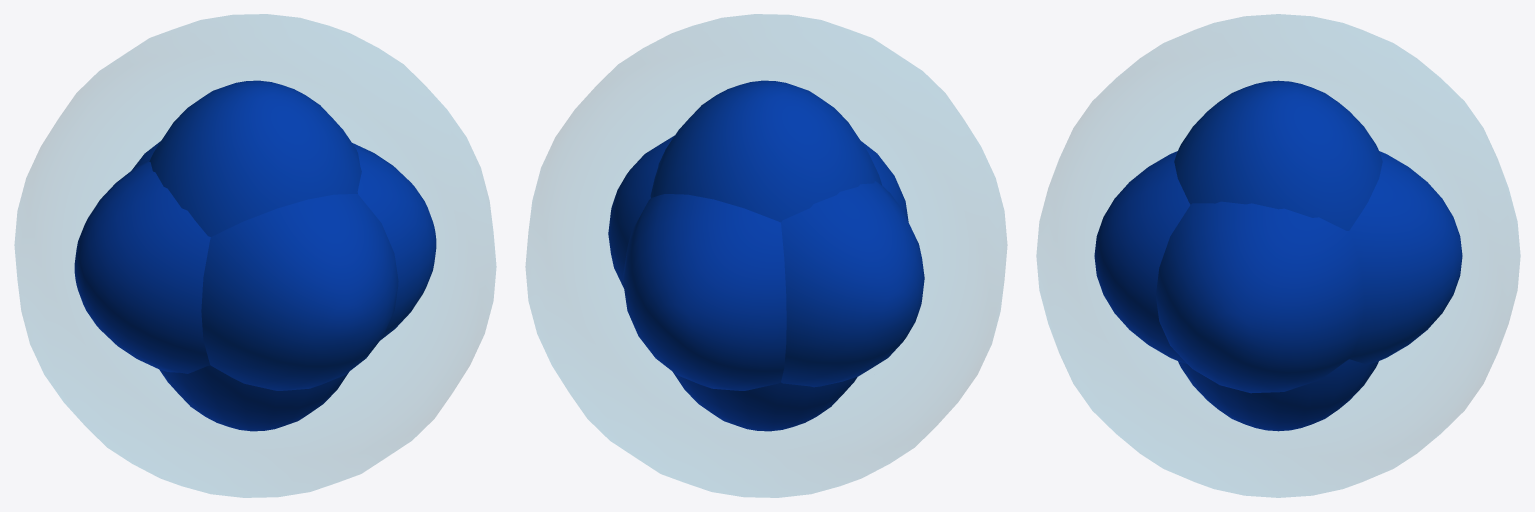
File: Bullet.fbx
3 views of the same model, side by side, from view 1: azimuth 30°, elevation 25°; view 2: azimuth 150°, elevation 25°; view 3: azimuth 270°, elevation 25° (orthographic).
Parts seen in each view (by area): view 1: pSphere8; view 2: pSphere8; view 3: pSphere8.
Part boxes in pixels (x1,y1,x2,y2): pSphere8: [14, 14, 496, 497]; pSphere8: [525, 14, 1007, 497]; pSphere8: [1036, 14, 1520, 497].
Size of the model in its own units: 3.82 by 3.82 by 3.82.
